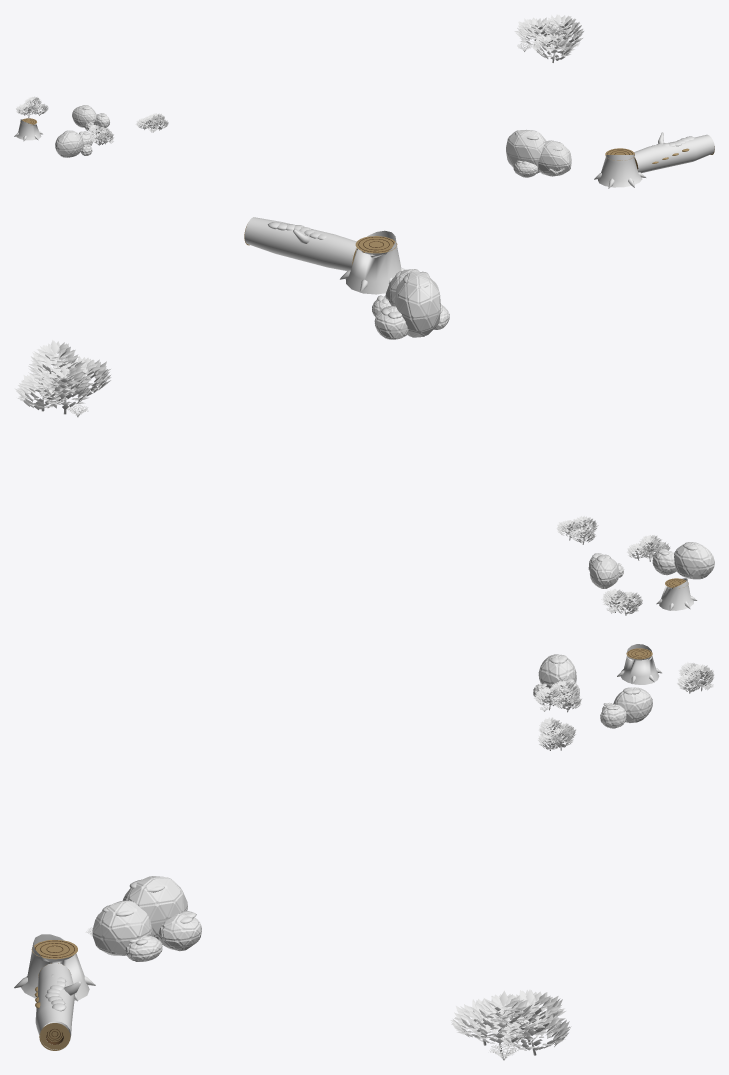
The model's file is SM_DF_Nature_2_2_Macro.fbx.
3 renders of one model, top to bottom at view 1: azimuth 30°, elevation 25°; view 2: azimuth 150°, elevation 25°; view 3: azimuth 270°, elevation 25°, orthographic. The views are drawn at different scales.
Parts seen in each view (by area): view 1: SM_DF_Nature_2_2_Macro; view 2: SM_DF_Nature_2_2_Macro; view 3: SM_DF_Nature_2_2_Macro.
Part boxes in pixels (left/top/right/bottom): SM_DF_Nature_2_2_Macro: left=14, top=14, right=714, bottom=188; SM_DF_Nature_2_2_Macro: left=14, top=217, right=714, bottom=615; SM_DF_Nature_2_2_Macro: left=14, top=644, right=714, bottom=1060.
Size of the model in its own units: 2860 by 2147 by 223.
